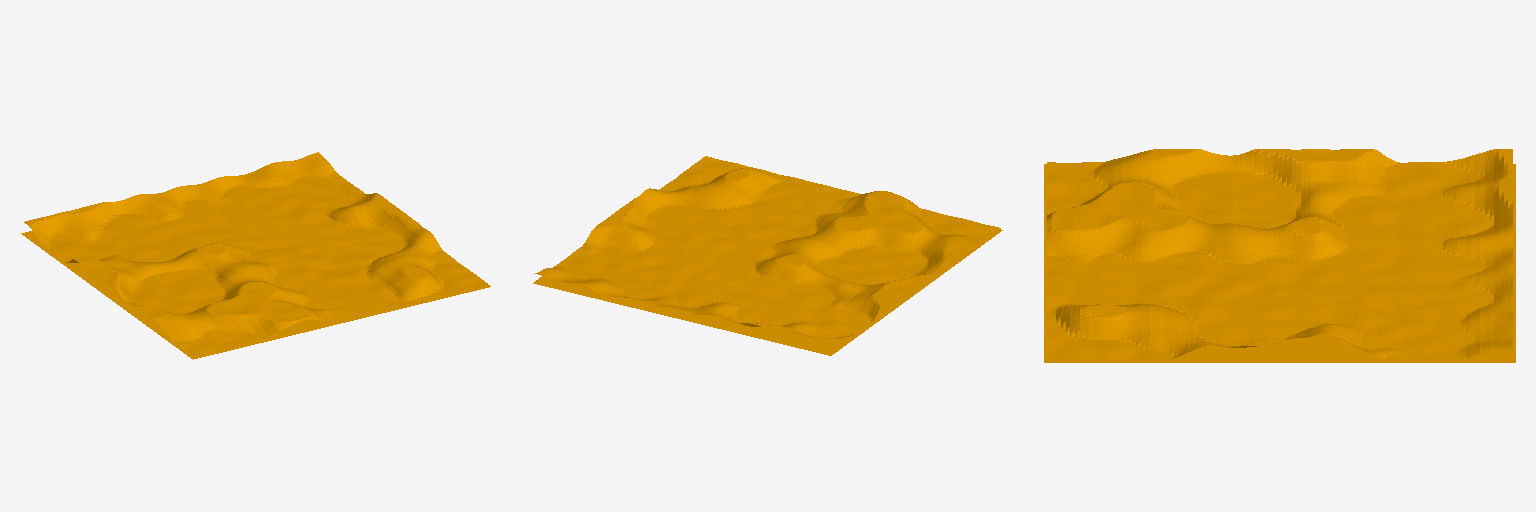
URDF robot description (cube.urdf):
<?xml version="1.0" ?>
<robot name="cube.urdf">
  <link concave="yes" name="baseLink">
    <inertial>
      <origin rpy="0 0 0" xyz="0 0 -2"/>
        <mass value=".0"/>
        <inertia ixx="0" ixy="0" ixz="0" iyy="0" iyz="0" izz="0"/>
    </inertial>
    <visual>
      <origin rpy="1.5707963 0 0" xyz="0 0 -2"/>
      <geometry>
				<mesh filename="unityexport.obj" scale="0.04 0.04 0.04"/>
      </geometry>
    </visual>
    <collision concave="yes">
      <origin rpy="1.5707963 0 0" xyz="0 0 -2"/>
      <geometry>
				<mesh filename="unityexport.obj" scale="0.04 0.04 0.04"/>
      </geometry>
    </collision>
    <inertial> 
    	<mass value="0"/>
        <inertia ixx="0" ixy="0" ixz="0" iyy="0" iyz="0" izz="0"/>
    </inertial> 
    <contact> 
        <lateral_friction value="4"/>
    </contact>
  </link>
</robot>

--- What the picture shows (computed from the rendered views, not written in the file) ---
3 views of the same robot in one strip: view 1: azimuth 30°, elevation 25°; view 2: azimuth 150°, elevation 25°; view 3: azimuth 270°, elevation 25° (orthographic).
Robot: cube.urdf — 1 links, 0 joints (none); root link baseLink; default pose: all joints at 0.
Links seen in each view (by area): view 1: baseLink; view 2: baseLink; view 3: baseLink.
Link boxes in pixels (x1=…): baseLink: x1=21, y1=152, x2=490, y2=359; baseLink: x1=533, y1=156, x2=1002, y2=355; baseLink: x1=1044, y1=149, x2=1515, y2=362.
Bounding box of the posed robot: 40 × 40 × 1.59 m (x, y, z).
Meshes: 1 distinct files referenced, 1 mesh visuals loaded (1 OBJ).